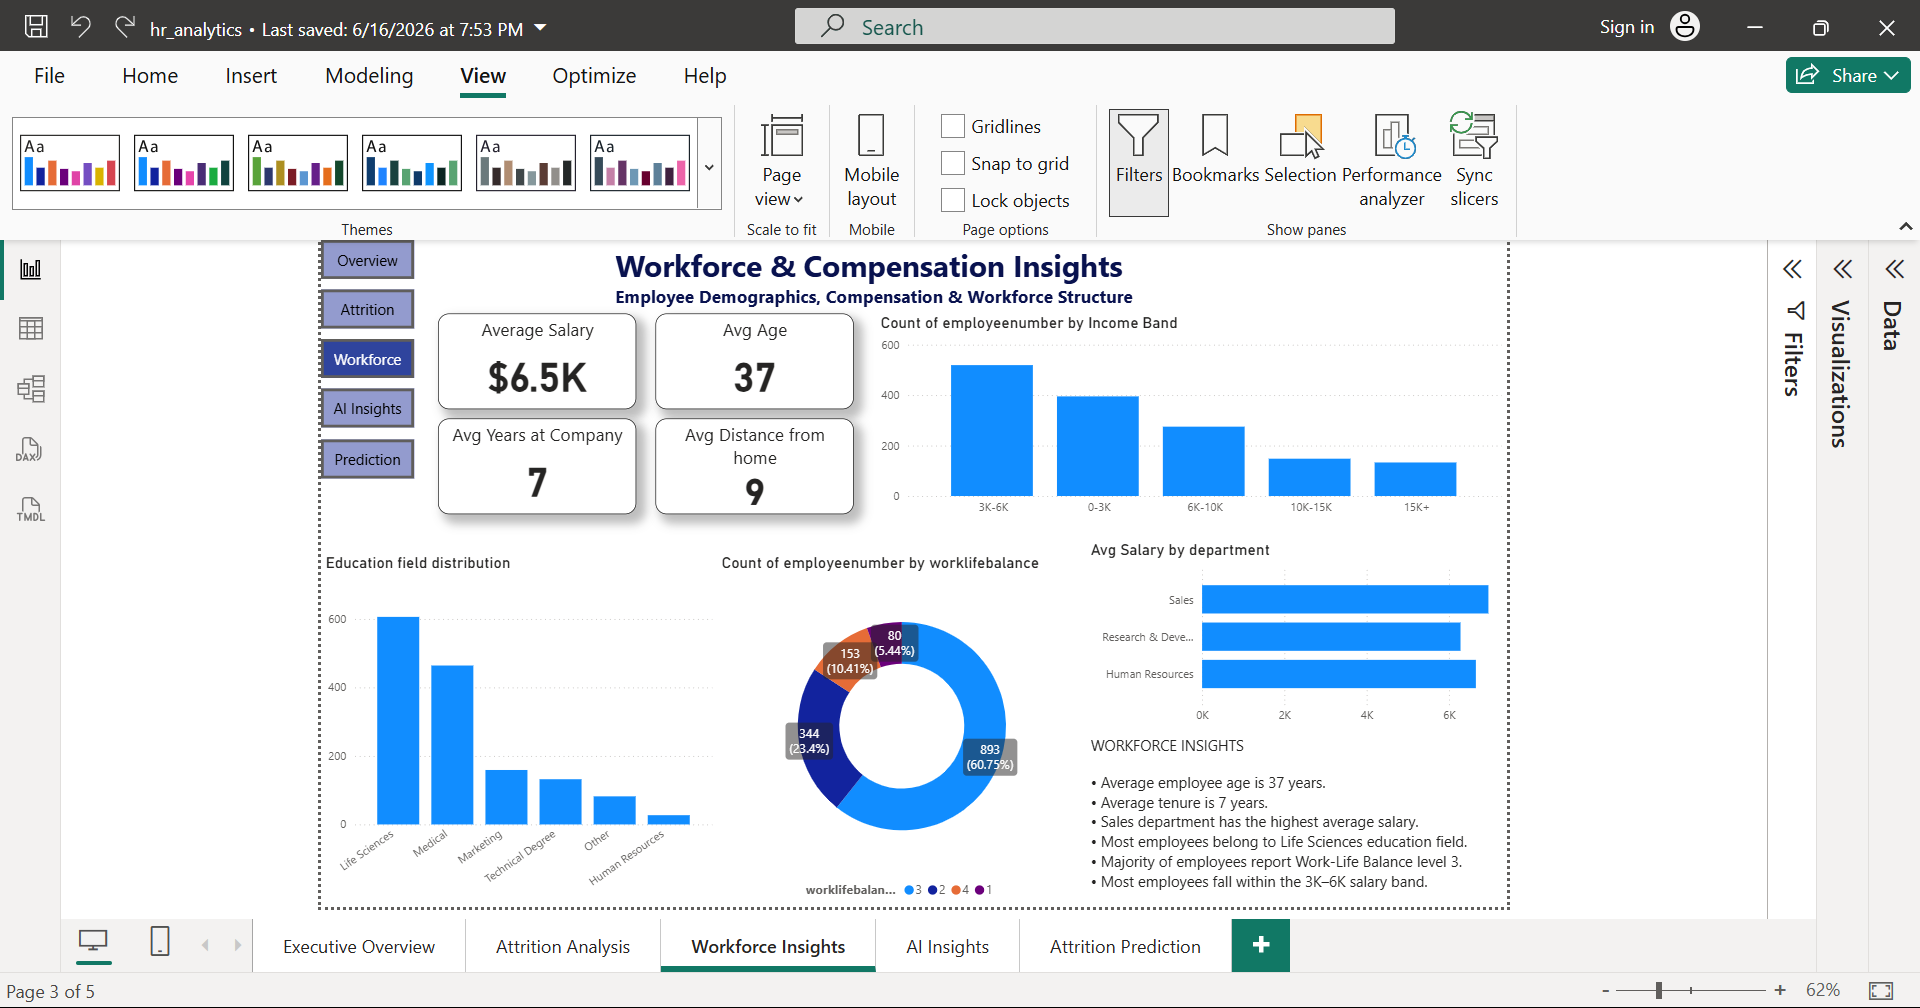

Layout of this report page (visuals, bound fields, positions):
{"tool":"powerbi","page":{"name":"Workforce Insights","canvas":[1280,720],"ordinal":2},"visuals":[{"type":"textbox","box":[312.5,0,573.2,79.3],"z":0},{"type":"clusteredBarChart","fields":{"Y":["public hr_attrition.Avg Salary"],"Category":["public hr_attrition.department"]},"box":[825.6,323.2,447.9,206.4],"z":1000},{"type":"card","title":"Average Salary ","fields":{"Values":["public hr_attrition.Average Salary"]},"box":[126.3,79.3,213.7,103.6],"z":2000},{"type":"card","title":"Avg Years at Company","fields":{"Values":["public hr_attrition.Avg Years at Company"]},"box":[126.3,192.7,213.7,103.6],"z":3000},{"type":"card","title":"Avg Age","fields":{"Values":["public hr_attrition.Avg Age"]},"box":[361.1,79.3,213.7,103.6],"z":4000},{"type":"card","title":"Avg Distance from home ","fields":{"Values":["public hr_attrition.Avg Distance From Home"]},"box":[361.1,192.7,213.7,103.6],"z":5000},{"type":"clusteredColumnChart","title":"Education field distribution","fields":{"Category":["public hr_attrition.educationfield"],"Y":["CountNonNull(public hr_attrition.employeenumber)"]},"box":[0,338.4,427.5,382.1],"z":6000},{"type":"donutChart","fields":{"Category":["public hr_attrition.worklifebalance"],"Y":["CountNonNull(public hr_attrition.employeenumber)"]},"box":[427.5,338.4,398.3,382.1],"z":7000},{"type":"textbox","box":[825.8,529.5,455,191.1],"z":8000},{"type":"clusteredColumnChart","fields":{"Y":["CountNonNull(public hr_attrition.employeenumber)"],"Category":["public hr_attrition.Income Band"]},"box":[599.1,79.3,680.1,226.7],"z":9000},{"type":"actionButton","box":[0,0,100.4,42.1],"z":10000},{"type":"actionButton","box":[0,53.4,100.4,42.1],"z":11000},{"type":"actionButton","box":[0,106.9,100.4,42.1],"z":12000},{"type":"actionButton","box":[0,160.3,100.4,42.1],"z":13000},{"type":"actionButton","box":[0,215.4,100.4,42.1],"z":14000}]}

Visuals, with their boxes on the page's 1280x720 design canvas (x1, y1, x2, y2). These are canvas units, not pixel positions in the 1920x1008 screenshot, which may show the page scaled, cropped or inside an application window:
textbox: x1=312 y1=0 x2=886 y2=79
clusteredBarChart - public hr_attrition.Avg Salary x public hr_attrition.department: x1=826 y1=323 x2=1274 y2=530
"Average Salary " card: x1=126 y1=79 x2=340 y2=183
"Avg Years at Company" card: x1=126 y1=193 x2=340 y2=296
"Avg Age" card: x1=361 y1=79 x2=575 y2=183
"Avg Distance from home " card: x1=361 y1=193 x2=575 y2=296
"Education field distribution" clusteredColumnChart: x1=0 y1=338 x2=428 y2=720
donutChart - public hr_attrition.worklifebalance x CountNonNull(public hr_attrition.employeenumber): x1=428 y1=338 x2=826 y2=720
textbox: x1=826 y1=530 x2=1281 y2=721
clusteredColumnChart - CountNonNull(public hr_attrition.employeenumber) x public hr_attrition.Income Band: x1=599 y1=79 x2=1279 y2=306
actionButton: x1=0 y1=0 x2=100 y2=42
actionButton: x1=0 y1=53 x2=100 y2=96
actionButton: x1=0 y1=107 x2=100 y2=149
actionButton: x1=0 y1=160 x2=100 y2=202
actionButton: x1=0 y1=215 x2=100 y2=258
